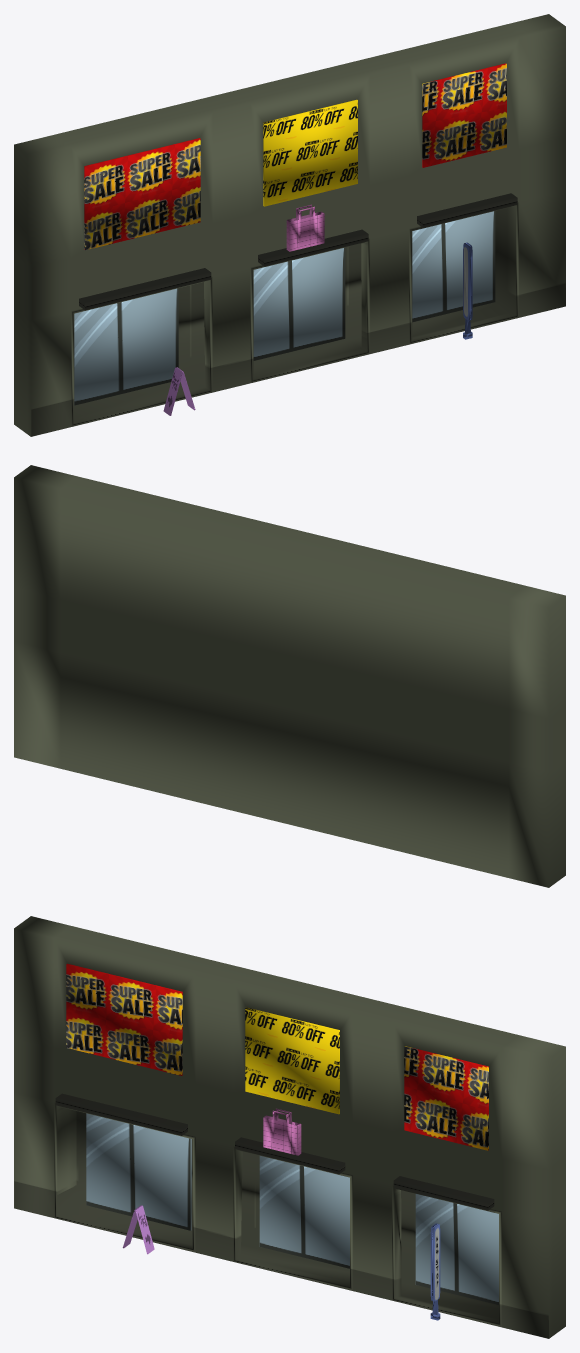
Rendered from Casa_2.fbx.
The picture shows the model from 3 angles, top to bottom: view 1: azimuth 30°, elevation 25°; view 2: azimuth 150°, elevation 25°; view 3: azimuth 330°, elevation 25°; orthographic projection.
Visible parts, largest first — view 1: Casa_2; view 2: Casa_2; view 3: Casa_2.
Part boxes in pixels (x1,y1,x2,y2): Casa_2: [14, 14, 565, 436]; Casa_2: [14, 465, 565, 887]; Casa_2: [14, 916, 565, 1338].
Bounding box in the file's own units: 2000 × 1000 × 208.
Materials: 8 (8 with a texture image).
